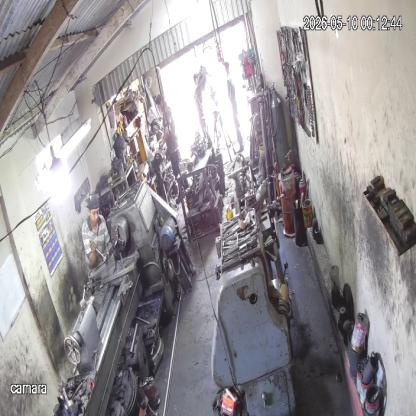sin_lentes: (91, 206, 100, 218)
